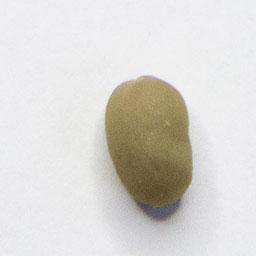peaberry: (102, 72, 198, 209)
